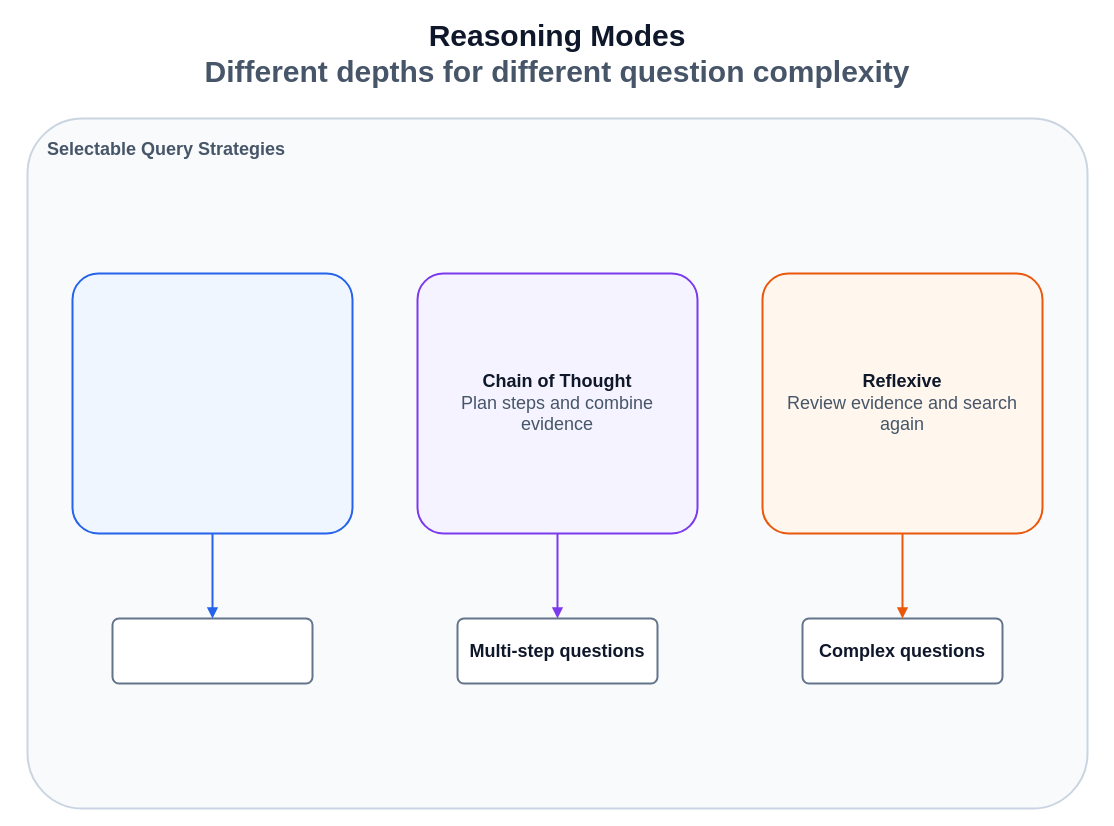
Some shapes in this 1114 by 826 pixel diagram are drawn without their labels. Each missing label, with the centre of its shape:
"Direct questions" belongs at point (212, 650).
"RAG Retrieve once and answer" belongs at point (212, 403).
